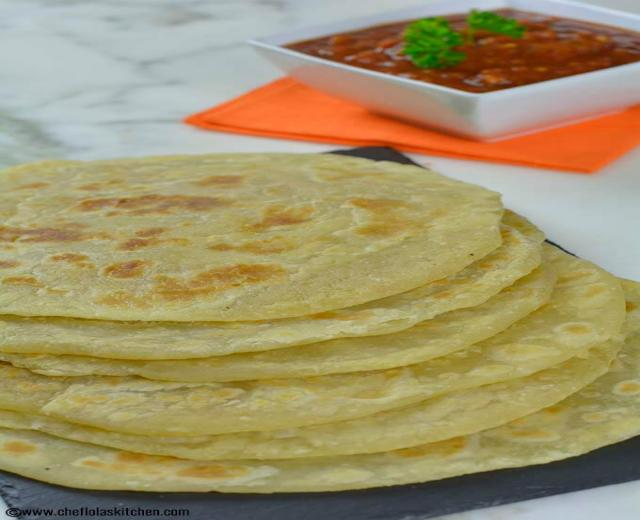chapati: (2, 153, 502, 321)
